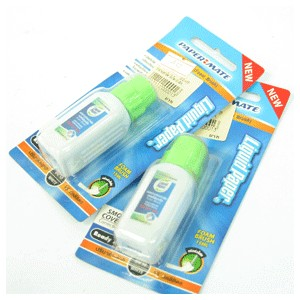Correction_fluid: (113, 131, 213, 266), (36, 73, 159, 179)
